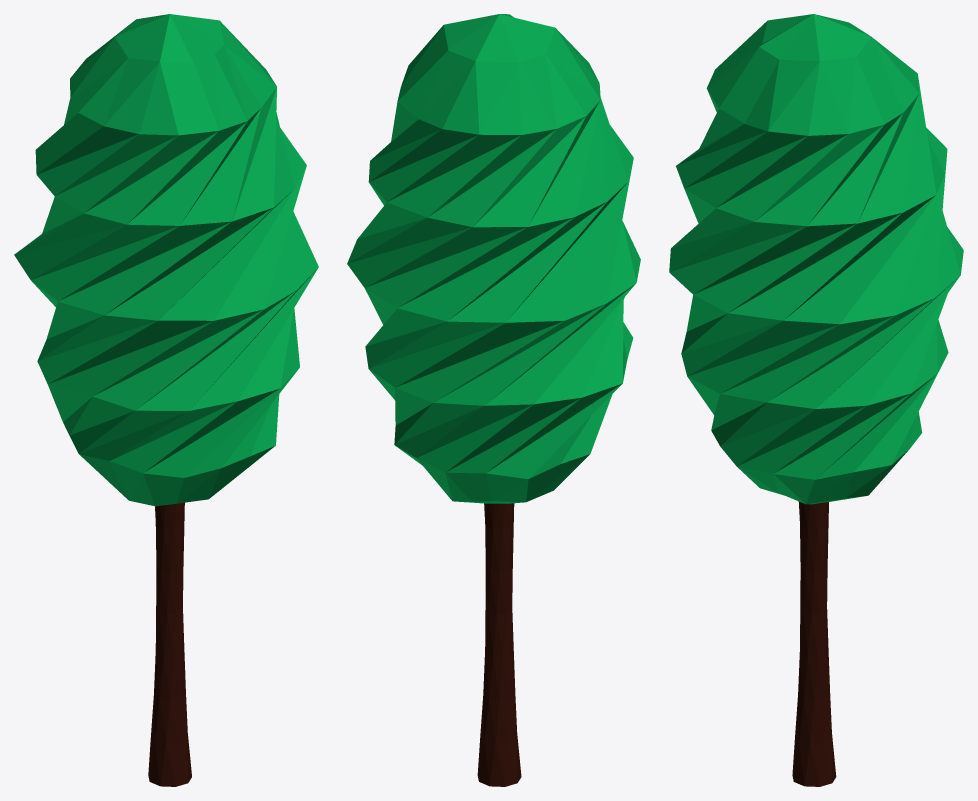
Rendered from tree2.obj.
The picture shows the model from 3 angles, left to right: view 1: azimuth 30°, elevation 25°; view 2: azimuth 150°, elevation 25°; view 3: azimuth 270°, elevation 25°; orthographic projection.
Size of the model in its own units: 140 by 402 by 140.
